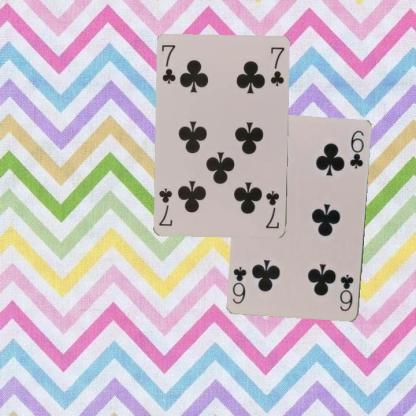6c: (338, 272, 356, 313)
7c: (159, 43, 177, 86), (263, 188, 281, 230)
